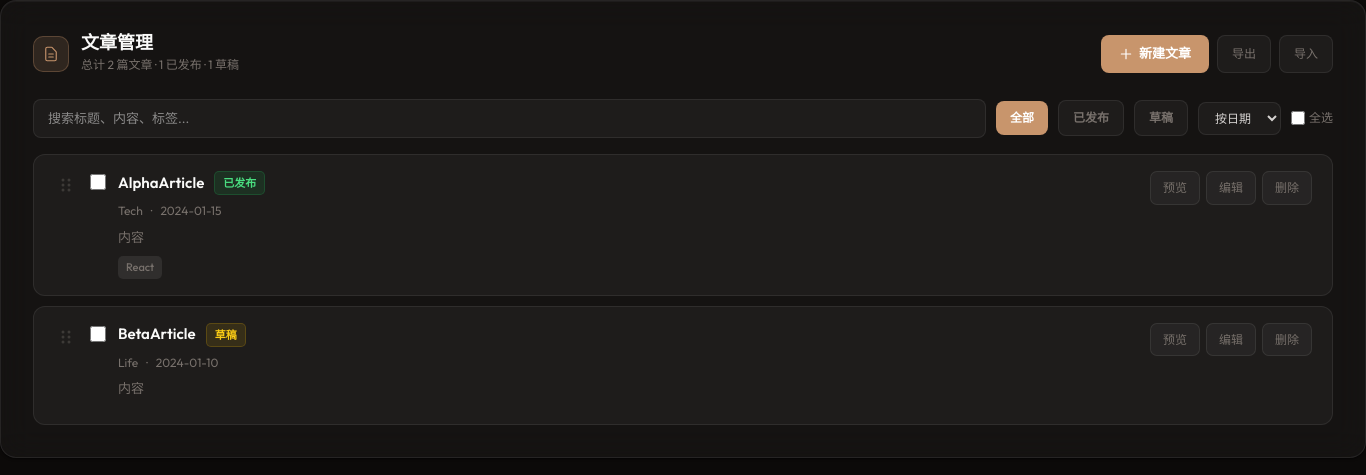
Test case: ContentManager › filters by search
expect the heading "AlphaArticle" is shown: met, box [118, 175, 204, 191]
In the field with placeholder "搜索标题、内容、标签...": point(509, 118) [33, 99, 986, 138], type "Alpha"
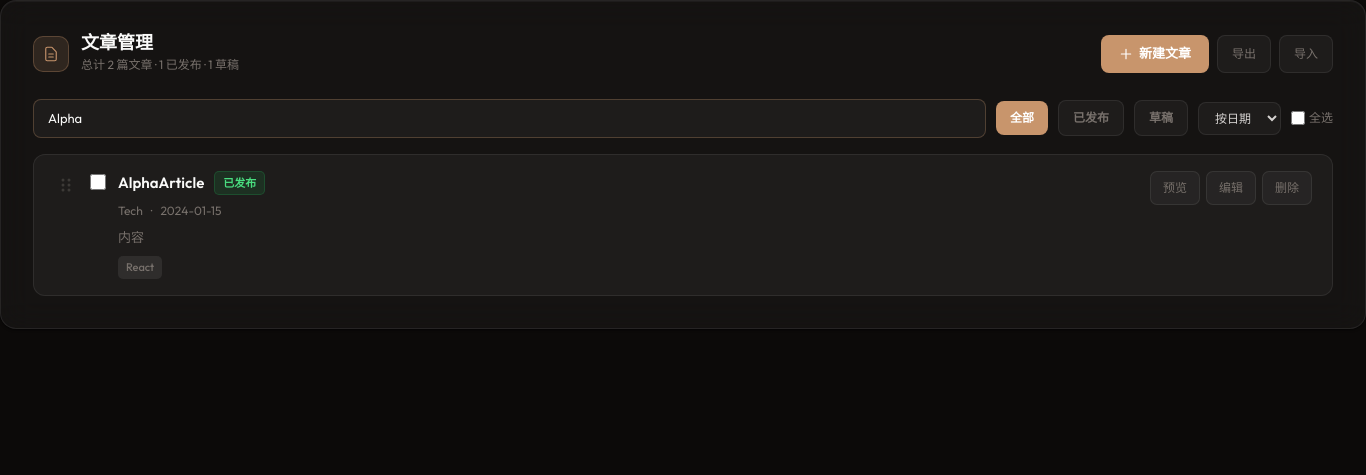
expect the heading "AlphaArticle" is shown: met, box [118, 175, 204, 191]
expect the heading "BetaArticle" is gone: met
